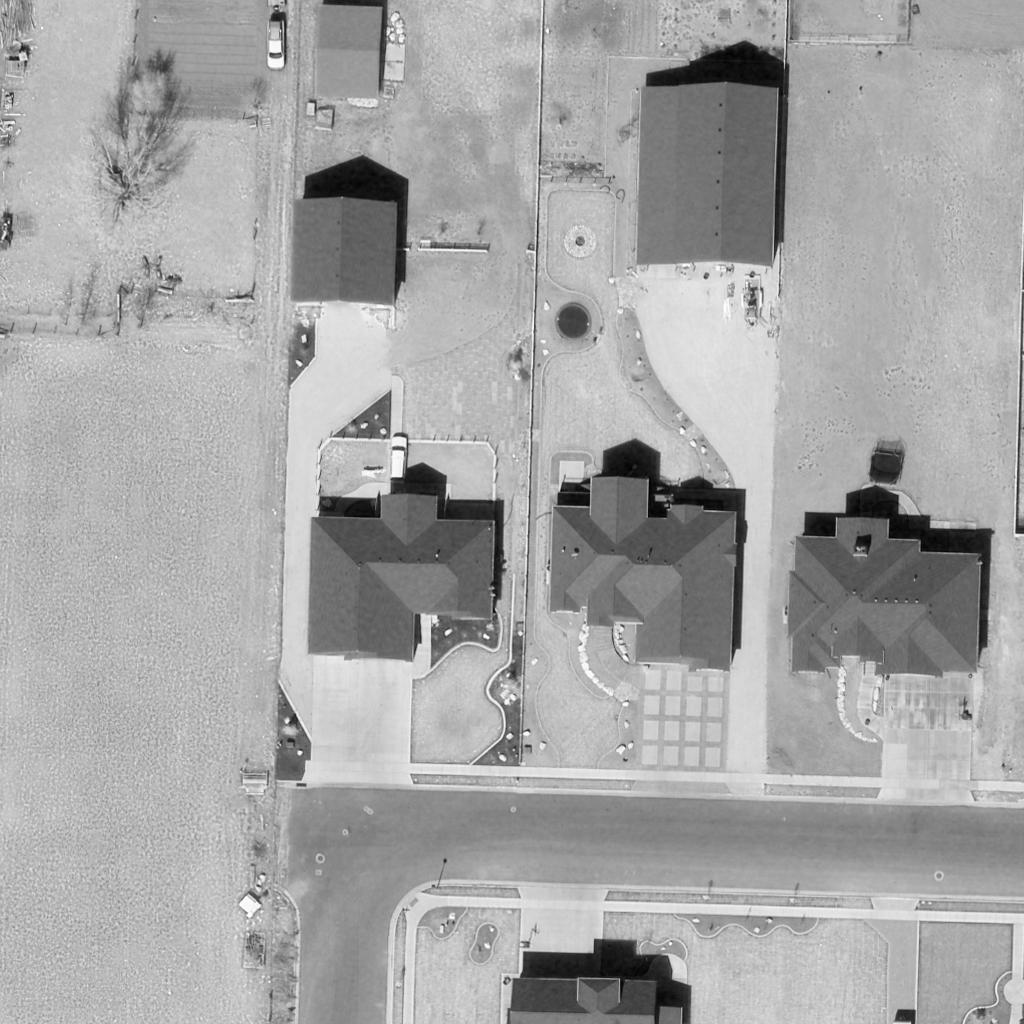vehicle: (264, 20, 288, 70), (391, 432, 409, 480)
